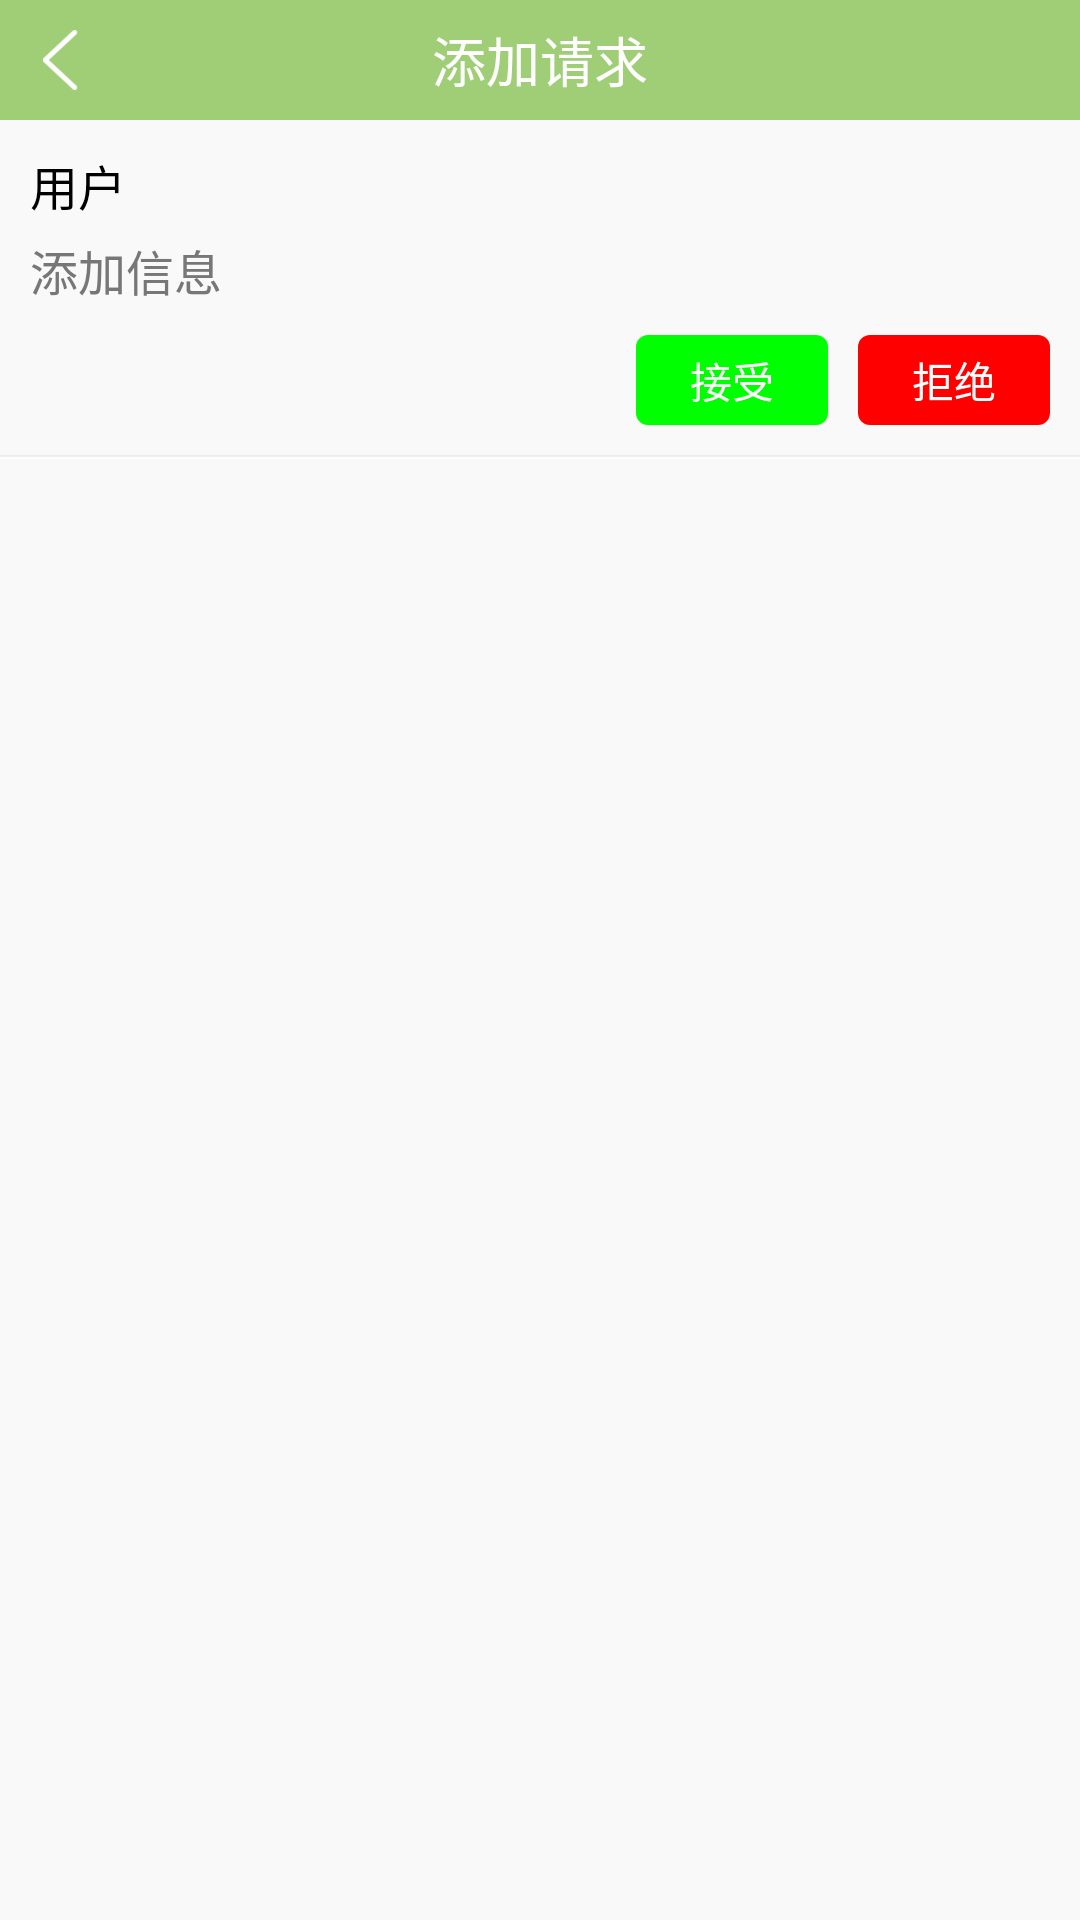

Where icons sit on this 1080 x 1920 app screen, as (x1, y1, x2, y2):
arrow left wide: (43, 30, 77, 90)
